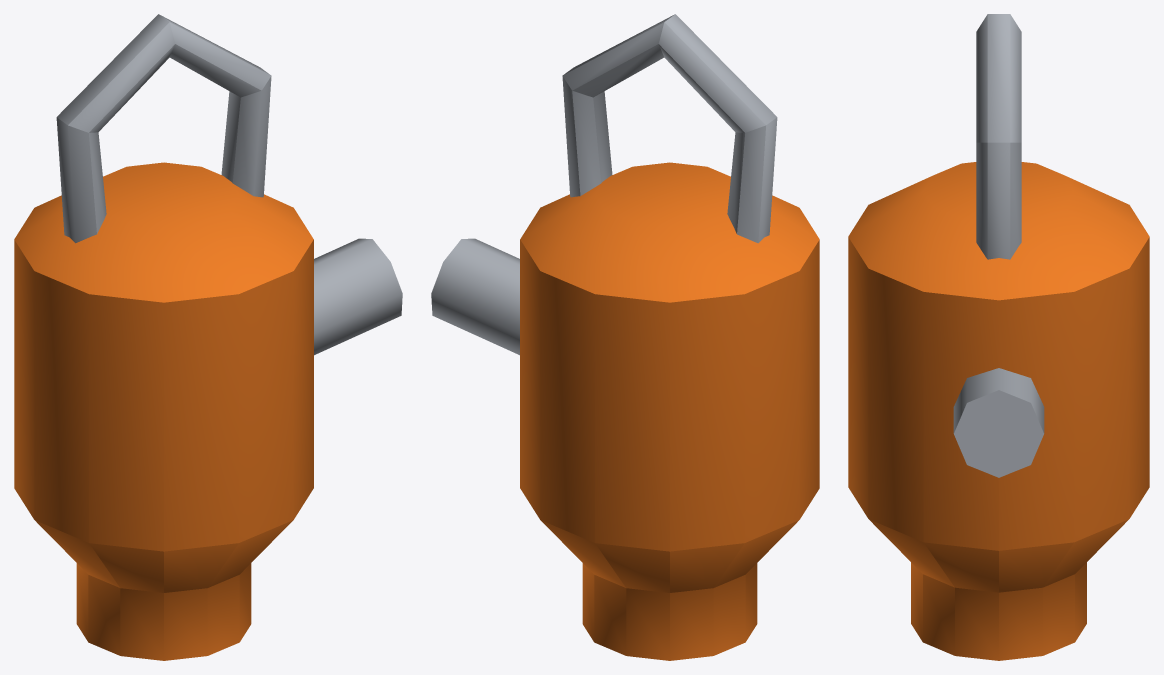
File: RigSwivel.obj
3 views of the same model, side by side, from view 1: azimuth 30°, elevation 25°; view 2: azimuth 150°, elevation 25°; view 3: azimuth 270°, elevation 25° (orthographic).
Parts seen in each view (by area): view 1: RigSwivel; view 2: RigSwivel; view 3: RigSwivel.
Part boxes in pixels (bbox=[...]): RigSwivel: bbox=[14, 14, 402, 660]; RigSwivel: bbox=[431, 14, 819, 660]; RigSwivel: bbox=[848, 14, 1149, 660].
Size of the model in its own units: 0.1635 by 0.2678 by 0.12.
